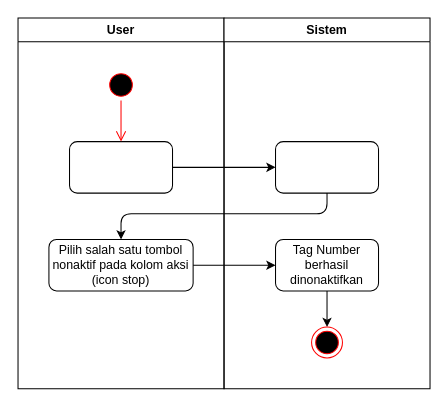
The diagram is 448 pixels wide and 407 high, and some of its shapes have lost their labels. The shapes that lost their labels are listed below. From the top down, each one's centre as x and y in pixels, then its label:
the point at 120,167: Pilih fitur tag number
the point at 326,167: Menampilkan halaman tag number
